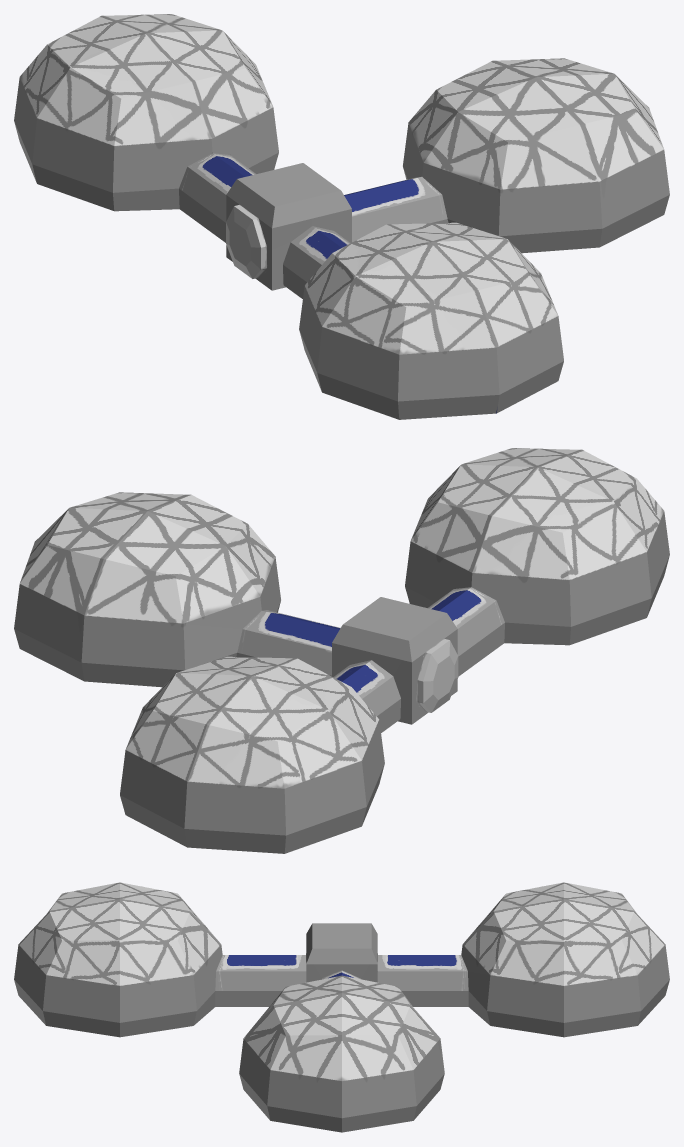
The model's file is baselunar.fbx.
3 views of the same model, one above another, from view 1: azimuth 30°, elevation 25°; view 2: azimuth 150°, elevation 25°; view 3: azimuth 270°, elevation 25° (orthographic). The views are drawn at different scales.
Parts seen in each view (by area): view 1: Cube.001; view 2: Cube.001; view 3: Cube.001.
Part boxes in pixels (left/top/right/bottom): Cube.001: left=14, top=14, right=669, bottom=419; Cube.001: left=14, top=448, right=669, bottom=853; Cube.001: left=14, top=882, right=669, bottom=1132.
Size of the model in its own units: 1201 by 307 by 1826.
Materials: 1 (1 with a texture image).
